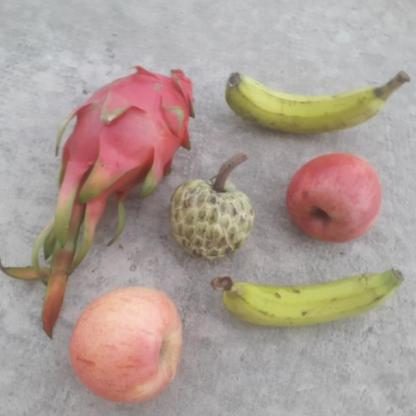annona: (167, 165, 259, 261)
apple: (68, 287, 191, 408), (285, 152, 389, 251)
banana: (221, 69, 408, 139), (214, 268, 406, 327)
pitaya: (58, 59, 201, 204)
